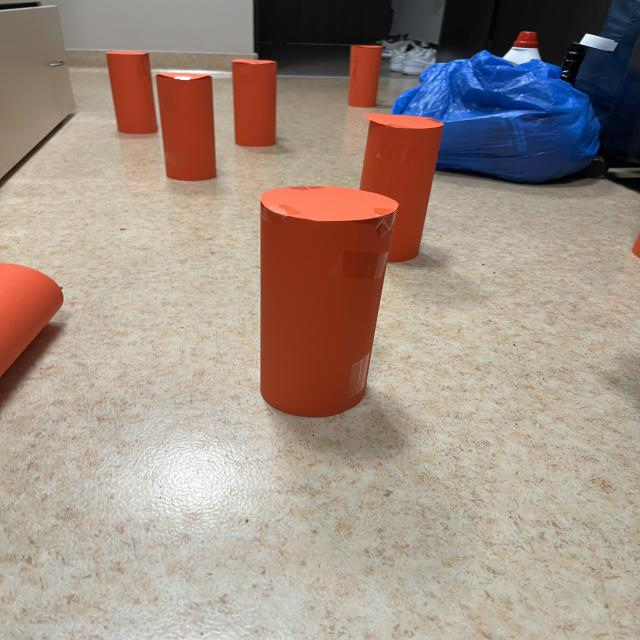przeszkoda: (260, 186, 398, 417), (360, 113, 443, 262), (0, 263, 63, 374), (157, 71, 216, 181), (108, 52, 157, 134), (232, 59, 276, 147), (349, 45, 382, 107)
